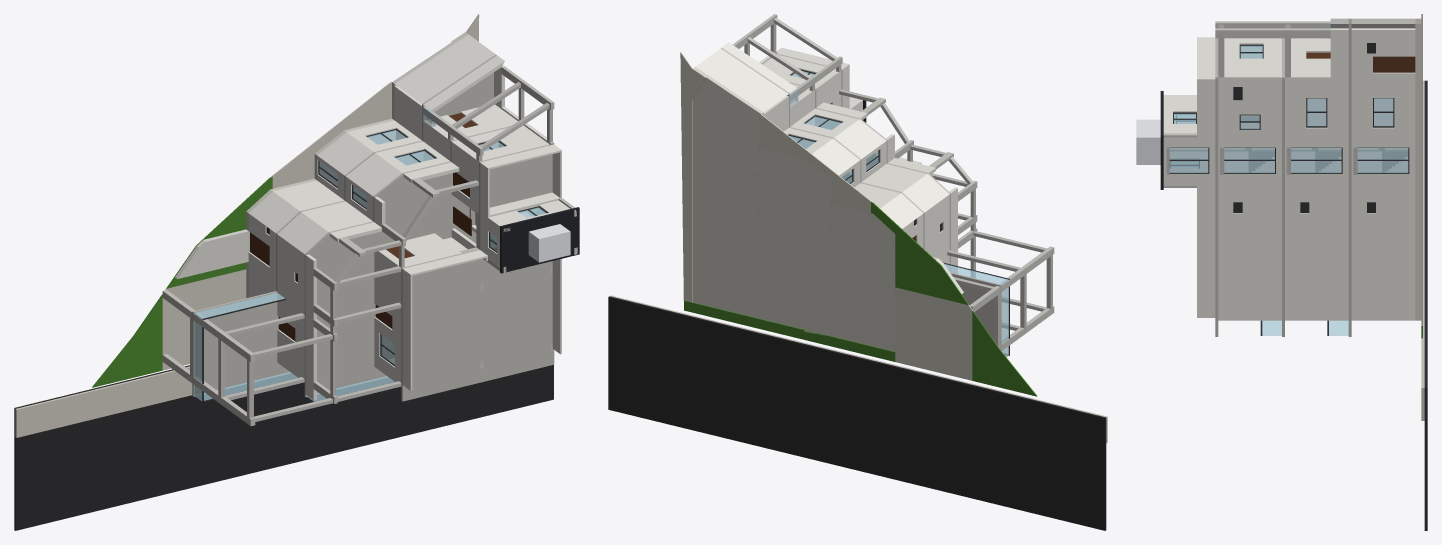
The model's file is daata_hamlet.obj.
3 renders of one model, left to right at view 1: azimuth 30°, elevation 25°; view 2: azimuth 150°, elevation 25°; view 3: azimuth 270°, elevation 25°, orthographic. The views are drawn at different scales.
Visible parts, largest first — view 1: RCC_Concrete_Slabs, Plaster_White_Stucco, Public_Road_Asphalt, Exterior_Stone_Paving, RCC_Tie_Beams, RCC_Columns_Concealed, Landscape_Lawn_Grass, Architectural_Glass, Canopy_Charcoal_Bronze, Interior_Marble_Flooring, Walnut_Entry_Door, Interior_Flooring (+2 smaller); view 2: Public_Road_Asphalt, Interior_Flooring, Plaster_White_Stucco, Exterior_Stone_Paving, Landscape_Lawn_Grass, RCC_Tie_Beams, RCC_Columns_Concealed, RCC_Concrete_Slabs, Architectural_Glass, Aluminum_Graphite_Frames; view 3: Plaster_White_Stucco, Architectural_Glass, RCC_Concrete_Slabs, Aluminum_Graphite_Frames, RCC_Columns_Concealed, Interior_Flooring, Public_Road_Asphalt, Exterior_Stone_Paving, RCC_Tie_Beams, Overhead_Water_Tank, Walnut_Entry_Door, Canopy_Charcoal_Bronze.
Boxes of the visible parts, left/top/right/bottom form: RCC_Concrete_Slabs: left=192, top=54, right=554, bottom=401; Plaster_White_Stucco: left=248, top=34, right=569, bottom=400; Public_Road_Asphalt: left=14, top=365, right=553, bottom=530; Exterior_Stone_Paving: left=15, top=14, right=479, bottom=437; RCC_Tie_Beams: left=190, top=82, right=552, bottom=421; RCC_Columns_Concealed: left=162, top=66, right=577, bottom=425; Landscape_Lawn_Grass: left=92, top=176, right=272, bottom=387; Architectural_Glass: left=194, top=107, right=546, bottom=401; Canopy_Charcoal_Bronze: left=500, top=207, right=579, bottom=273; Interior_Marble_Flooring: left=175, top=229, right=248, bottom=278; Walnut_Entry_Door: left=250, top=113, right=502, bottom=340; Interior_Flooring: left=246, top=32, right=468, bottom=298; Public_Road_Asphalt: left=608, top=296, right=1106, bottom=530; Interior_Flooring: left=693, top=67, right=895, bottom=350; Plaster_White_Stucco: left=695, top=42, right=957, bottom=273; Exterior_Stone_Paving: left=610, top=52, right=1107, bottom=442; Landscape_Lawn_Grass: left=684, top=202, right=1037, bottom=396; RCC_Tie_Beams: left=744, top=18, right=1052, bottom=348; RCC_Columns_Concealed: left=693, top=14, right=1054, bottom=351; RCC_Concrete_Slabs: left=721, top=47, right=1001, bottom=350; Architectural_Glass: left=789, top=71, right=1008, bottom=357; Aluminum_Graphite_Frames: left=788, top=69, right=1009, bottom=355; Plaster_White_Stucco: left=1163, top=18, right=1415, bottom=320; Architectural_Glass: left=1169, top=21, right=1408, bottom=335; RCC_Concrete_Slabs: left=1215, top=18, right=1407, bottom=336; Aluminum_Graphite_Frames: left=1169, top=43, right=1409, bottom=335; RCC_Columns_Concealed: left=1163, top=21, right=1330, bottom=187; Interior_Flooring: left=1415, top=18, right=1421, bottom=320; Public_Road_Asphalt: left=1424, top=80, right=1427, bottom=530; Exterior_Stone_Paving: left=1421, top=14, right=1424, bottom=420; RCC_Tie_Beams: left=1166, top=24, right=1357, bottom=174; Overhead_Water_Tank: left=1136, top=119, right=1160, bottom=164; Walnut_Entry_Door: left=1241, top=52, right=1415, bottom=115; Canopy_Charcoal_Bronze: left=1160, top=91, right=1163, bottom=189.
Size of the model in its own units: 36.58 by 26.26 by 14.63.
